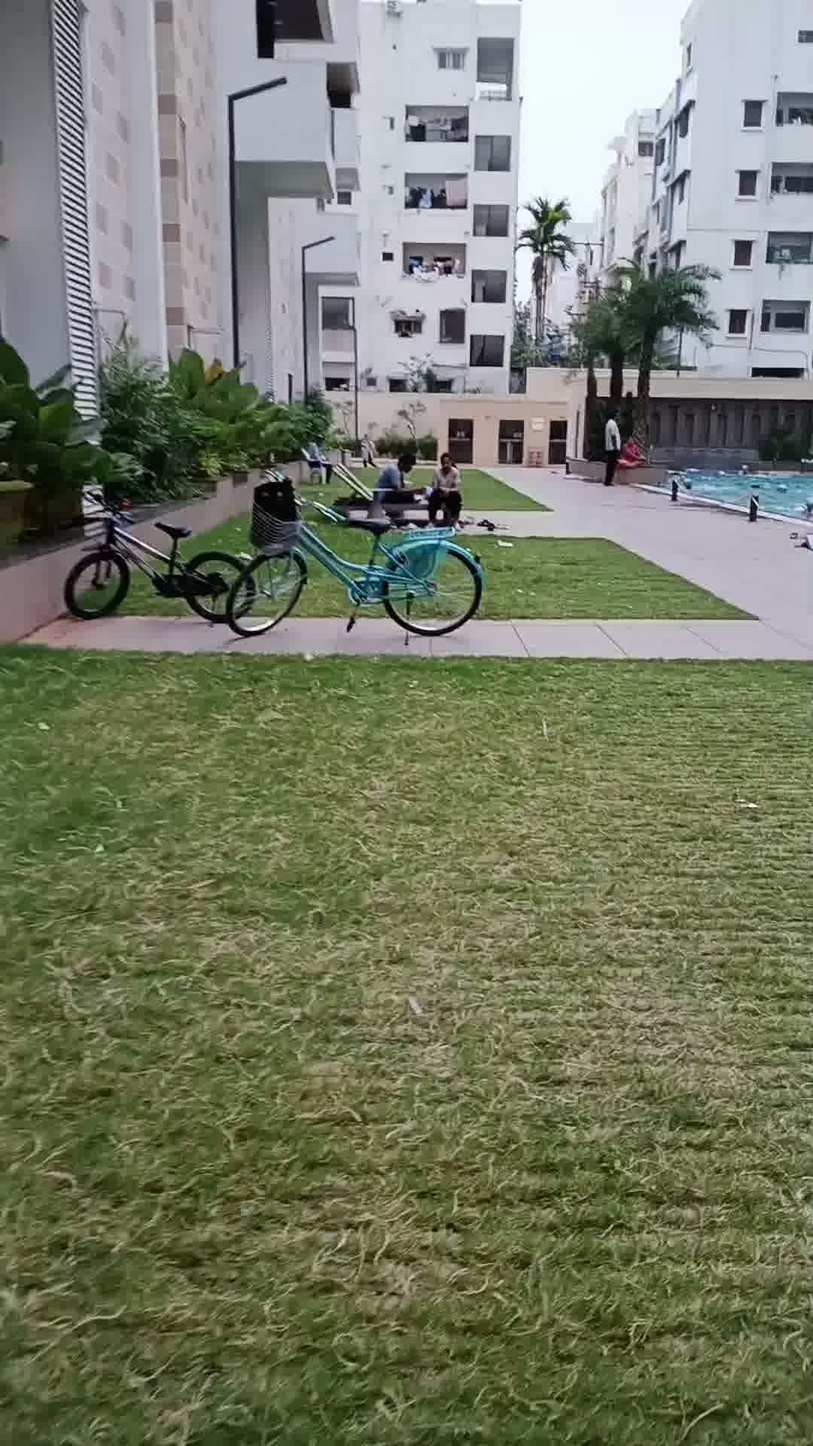bicycle: (235, 446, 500, 662), (63, 481, 251, 653)
person: (428, 434, 475, 533), (383, 418, 419, 515), (592, 383, 623, 489)
tree: (602, 226, 708, 449), (506, 165, 572, 387), (576, 252, 640, 446)
